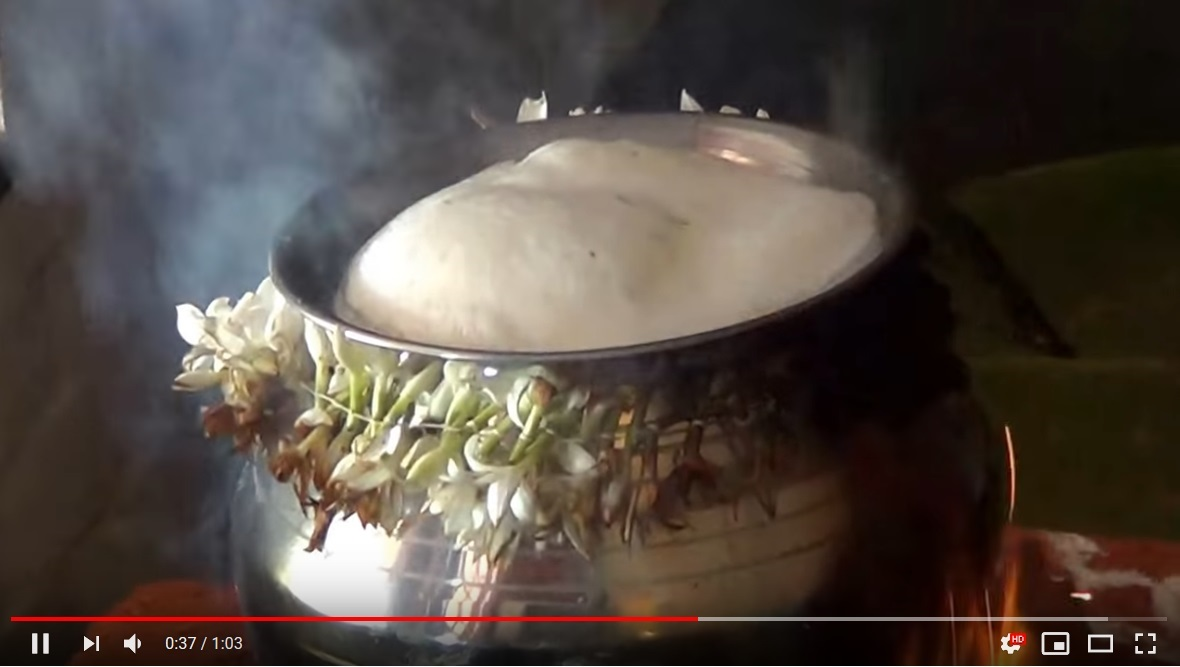Boiled: (234, 94, 879, 546)
